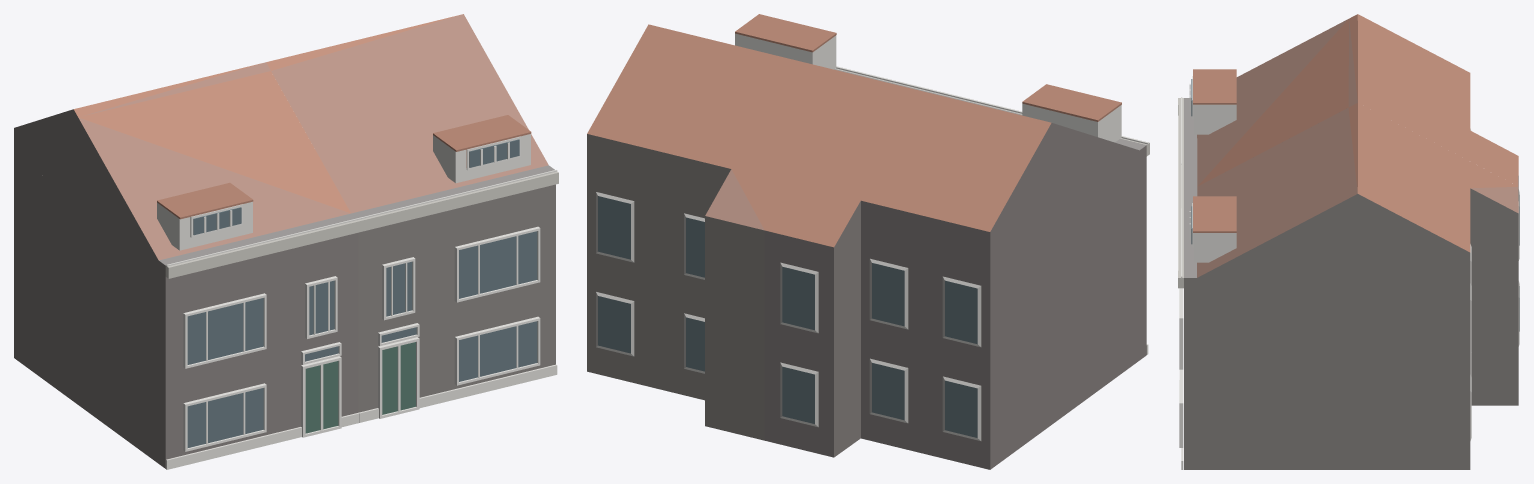
File: chunk-face-kalkoen-8-16-r2.glb
3 views of the same model, side by side, from view 1: azimuth 30°, elevation 25°; view 2: azimuth 150°, elevation 25°; view 3: azimuth 270°, elevation 25° (orthographic). The views are drawn at different scales.
Parts seen in each view (by area): view 1: face-kalkoen-8-16-r2; view 2: face-kalkoen-8-16-r2; view 3: face-kalkoen-8-16-r2.
Boxes of the visible parts, x1,y1,x2,y2 form: face-kalkoen-8-16-r2: (14, 14, 558, 469); face-kalkoen-8-16-r2: (587, 14, 1149, 469); face-kalkoen-8-16-r2: (1178, 14, 1519, 469).
Size of the model in its own units: 12.89 by 9.23 by 10.35.
